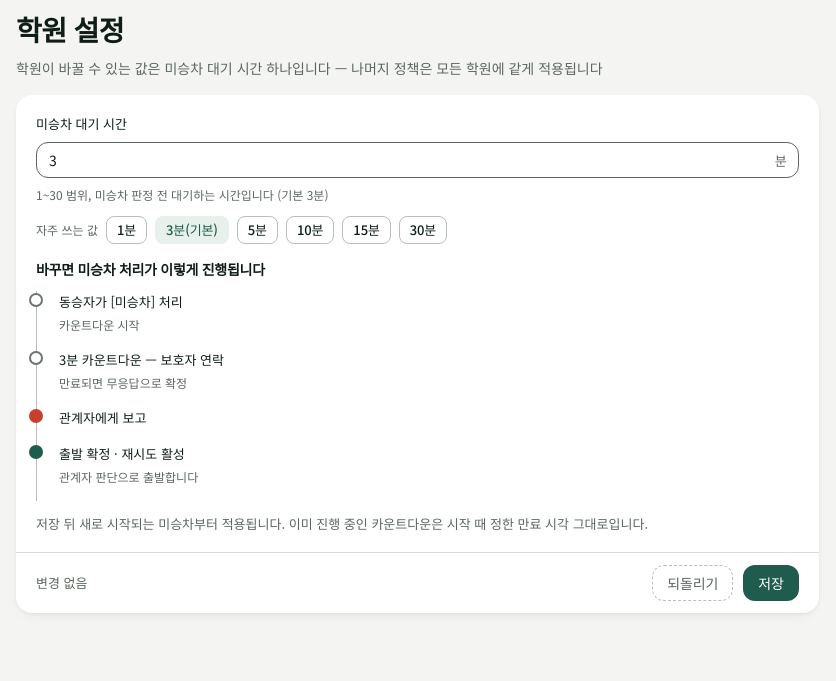
Test: AcademySettingsForm — 저장 실패 갈래 › 저장이 500 으로 거부되면 화면이 조용히 넘어가지 않고 오류 문구를 보여준다
expect the number field holds "3": met, box [36,142,799,178]
What coordinates should you click on to do the following:
click the button "저장"
I would click on:
 (771, 583)
Its box is [743,565,799,601].
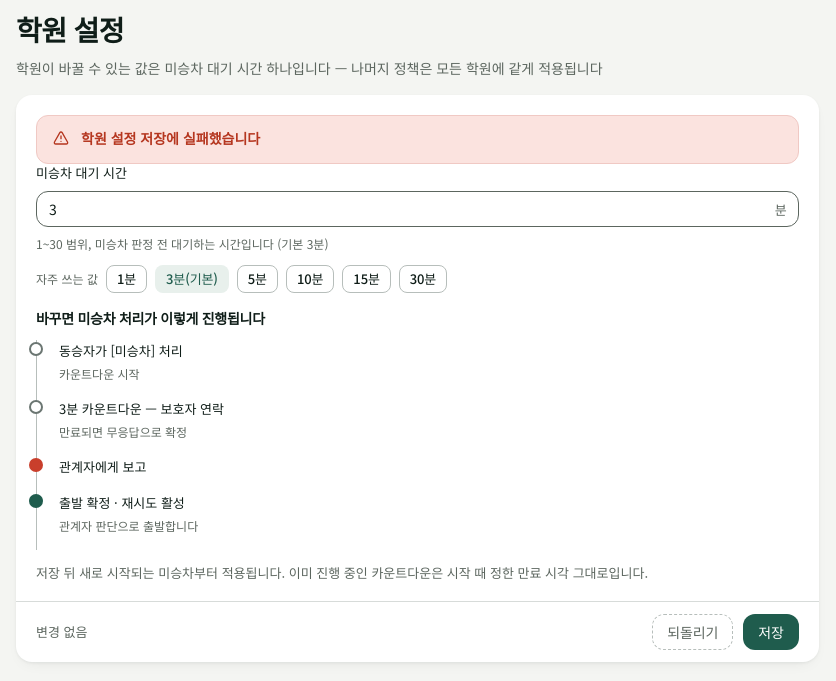
expect the text "학원 설정 저장에 실패했습니다" is shown: met, box [81,128,260,148]
